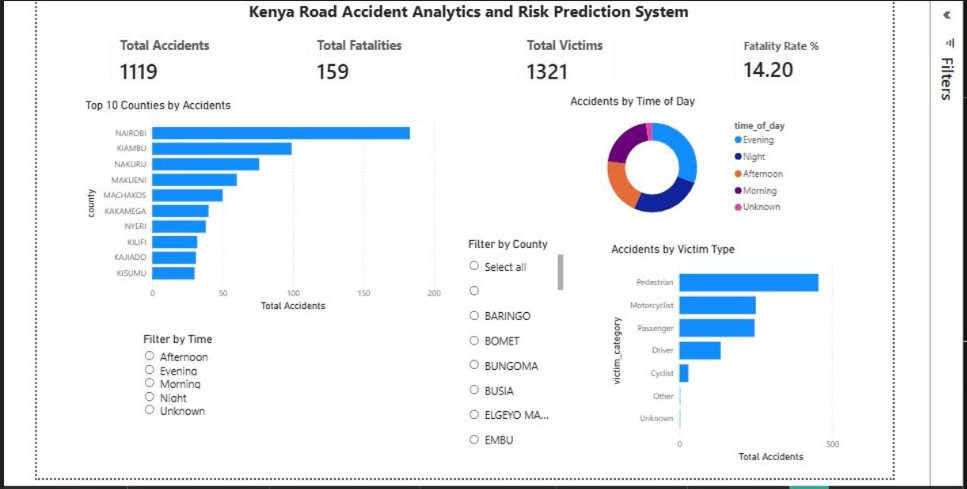

What the dashboard file says about the page in this screenshot:
{"tool":"powerbi","page":{"name":"National Overview","canvas":[1280,720],"ordinal":0},"visuals":[{"type":"textbox","box":[303.2,0,684.1,43.3],"z":0},{"type":"cardVisual","fields":{"Data":["CountNonNull(accidents_clean.is_fatal)"]},"box":[94.1,43.3,227.1,103.1],"z":1000},{"type":"cardVisual","fields":{"Data":["Sum(accidents_clean.is_fatal)1"]},"box":[388.4,43.3,189.7,103.1],"z":2000},{"type":"cardVisual","fields":{"Data":["Sum(accidents_clean.num_victims)"]},"box":[702.1,43.3,177.8,103.1],"z":3000},{"type":"cardVisual","fields":{"Data":["accidents_clean.Fatality Rate %"]},"box":[1026.2,43.3,177.8,103.1],"z":4000},{"type":"clusteredBarChart","title":"Top 10 Counties by Accidents","fields":{"Category":["accidents_clean.county"],"Y":["accidents_clean.Total Accidents"]},"box":[67.2,152.4,540.7,322.7],"z":5000},{"type":"donutChart","title":"Accidents by Time of Day","fields":{"Category":["accidents_clean.time_of_day"],"Y":["accidents_clean.Total Accidents"]},"box":[791.7,146.4,348,198.7],"z":6000},{"type":"clusteredBarChart","title":"Accidents by Victim Type","fields":{"Category":["accidents_clean.victim_category"],"Y":["accidents_clean.Total Accidents"]},"box":[852.9,367.5,395.9,333.1],"z":7000},{"type":"listSlicer","title":"Filter by Time","fields":{"Values":["accidents_clean.time_of_day"]},"box":[153.9,501.9,149.4,198.7],"z":8000},{"type":"listSlicer","title":"Filter by County","fields":{"Values":["accidents_clean.county"]},"box":[639.3,360,152.4,333.1],"z":9000}]}

Visuals, with their boxes on the page's 1280x720 design canvas (x1, y1, x2, y2). These are canvas units, not pixel positions in the 967x489 screenshot, which may show the page scaled, cropped or inside an application window:
textbox: (x1=303, y1=0, x2=987, y2=43)
cardVisual - CountNonNull(accidents_clean.is_fatal): (x1=94, y1=43, x2=321, y2=146)
cardVisual - Sum(accidents_clean.is_fatal)1: (x1=388, y1=43, x2=578, y2=146)
cardVisual - Sum(accidents_clean.num_victims): (x1=702, y1=43, x2=880, y2=146)
cardVisual - accidents_clean.Fatality Rate %: (x1=1026, y1=43, x2=1204, y2=146)
"Top 10 Counties by Accidents" clusteredBarChart: (x1=67, y1=152, x2=608, y2=475)
"Accidents by Time of Day" donutChart: (x1=792, y1=146, x2=1140, y2=345)
"Accidents by Victim Type" clusteredBarChart: (x1=853, y1=368, x2=1249, y2=701)
"Filter by Time" listSlicer: (x1=154, y1=502, x2=303, y2=701)
"Filter by County" listSlicer: (x1=639, y1=360, x2=792, y2=693)
